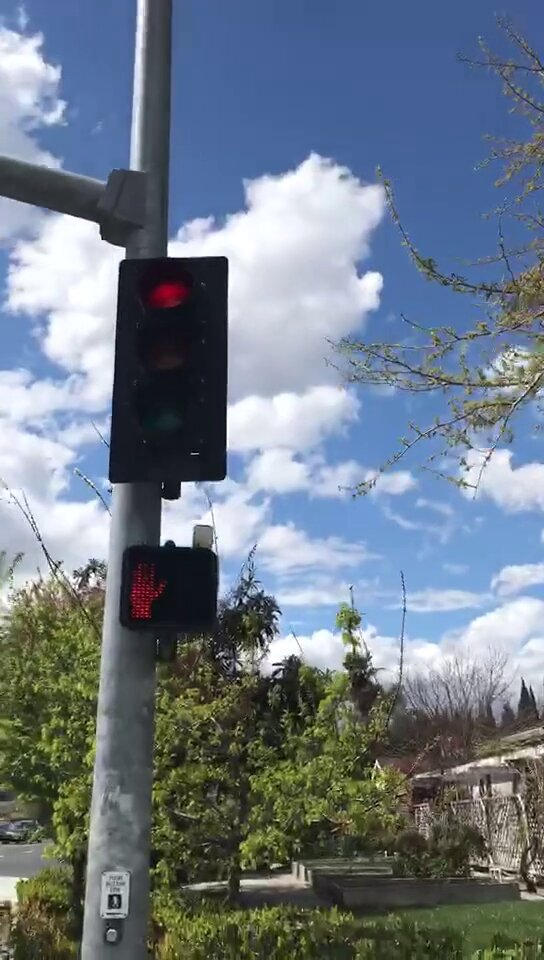red_light: (119, 261, 226, 481)
